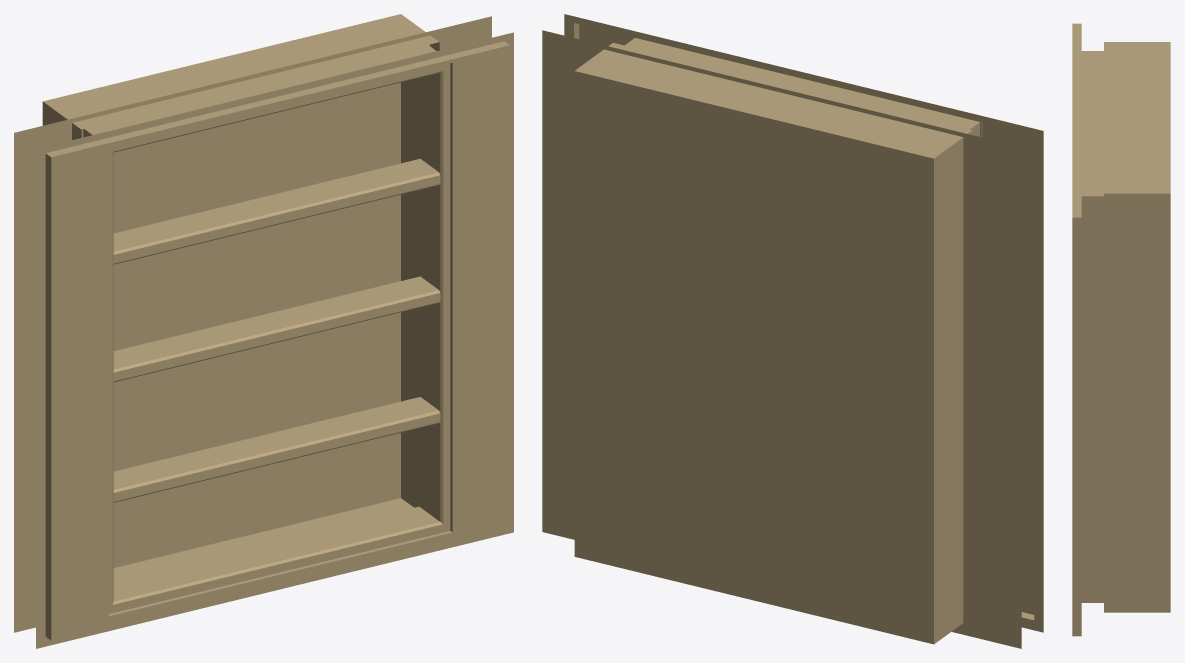
Rendered from Panel_Window_03_001.fbx.
3 views of the same model, side by side, from view 1: azimuth 30°, elevation 25°; view 2: azimuth 150°, elevation 25°; view 3: azimuth 270°, elevation 25° (orthographic). The views are drawn at different scales.
Visible parts, largest first — view 1: Panel_Window02_001; view 2: Panel_Window02_001; view 3: Panel_Window02_001.
Part boxes in pixels (box(x1,y1,x2,y2)): Panel_Window02_001: box(14, 14, 513, 648); Panel_Window02_001: box(542, 14, 1043, 648); Panel_Window02_001: box(1072, 23, 1170, 636).
Bounding box in the file's own units: 250 × 250 × 51.54.
